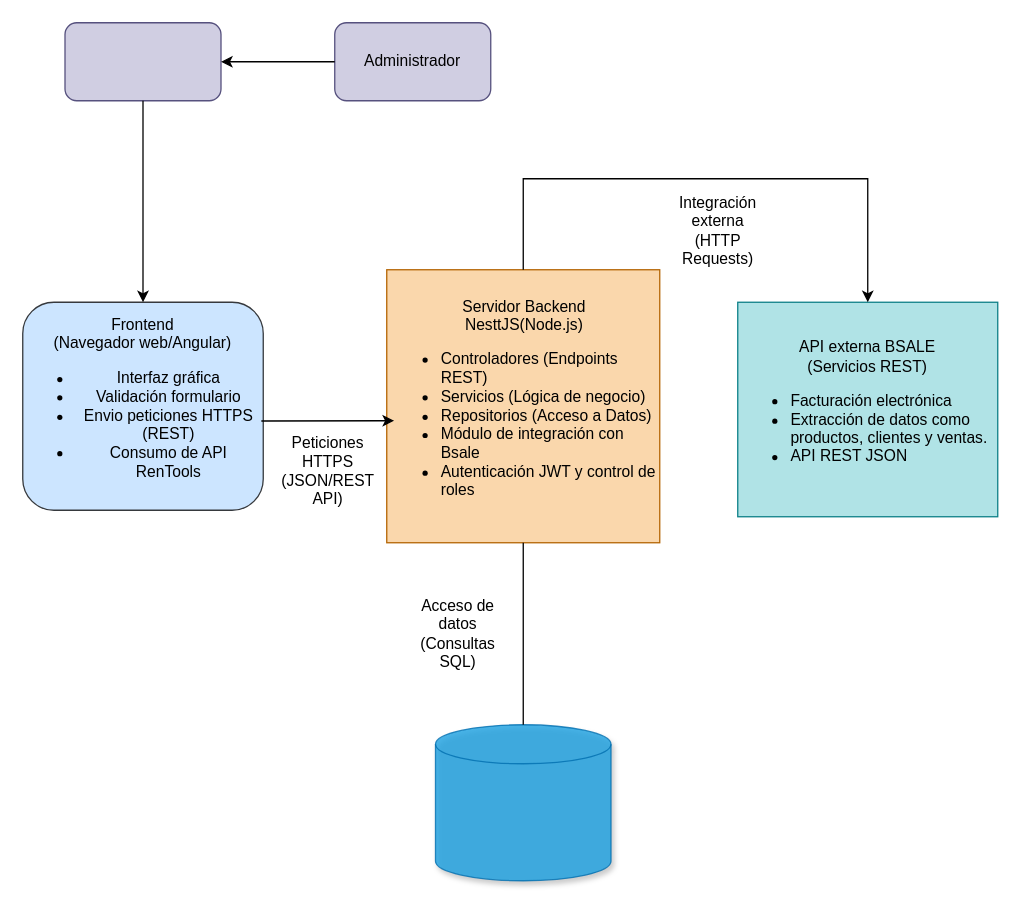
Image size: 1020x913. Some labels were removed from this diagram. Here are the shapes that lost their labels. From the top down, the centre of each, then its label:
point (142, 61): Trabajador
point (524, 804): Base de datos PostgreSQL
